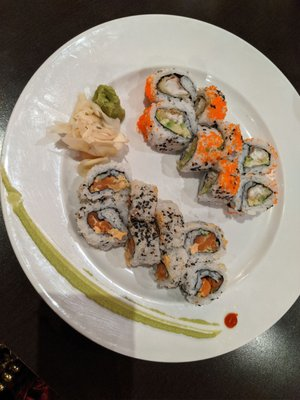curry: (92, 84, 125, 120)
